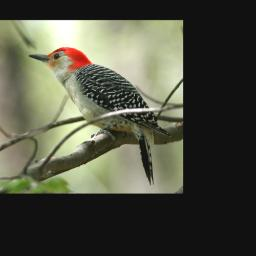Woodpecker: (29, 46, 169, 185)
